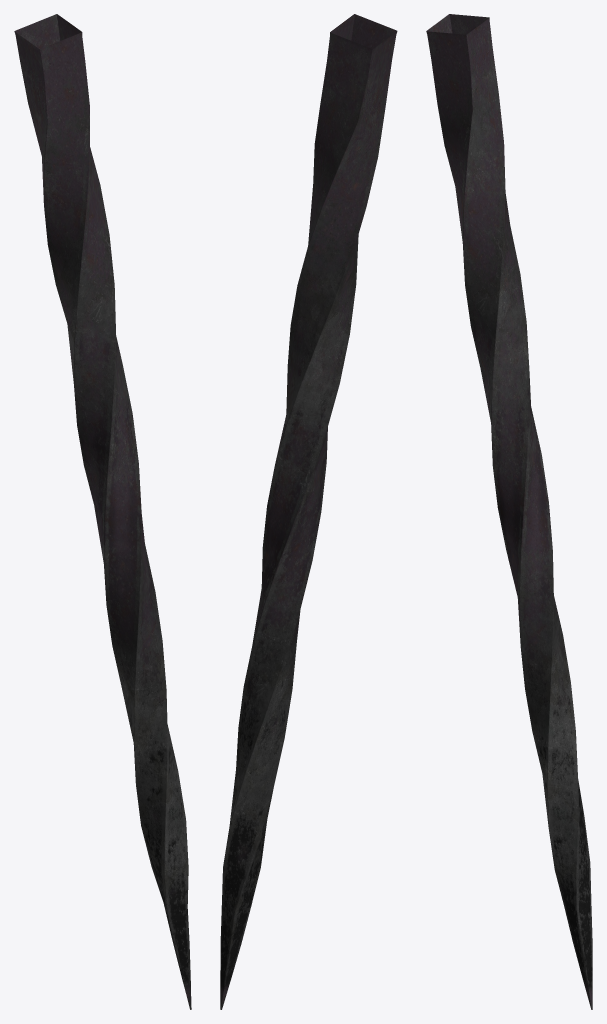
Rendered from swordfire.obj.
The picture shows the model from 3 angles, left to right: view 1: azimuth 30°, elevation 25°; view 2: azimuth 150°, elevation 25°; view 3: azimuth 330°, elevation 25°; orthographic projection. The views are drawn at different scales.
Visible parts, largest first — view 1: defaultMaterial.005; view 2: defaultMaterial.005; view 3: defaultMaterial.005.
Boxes of the visible parts, x1,y1,x2,y2 form: defaultMaterial.005: [14, 14, 191, 1009]; defaultMaterial.005: [220, 14, 397, 1009]; defaultMaterial.005: [426, 14, 592, 1009].
Size of the model in its own units: 7.7 by 45.38 by 2.59.
